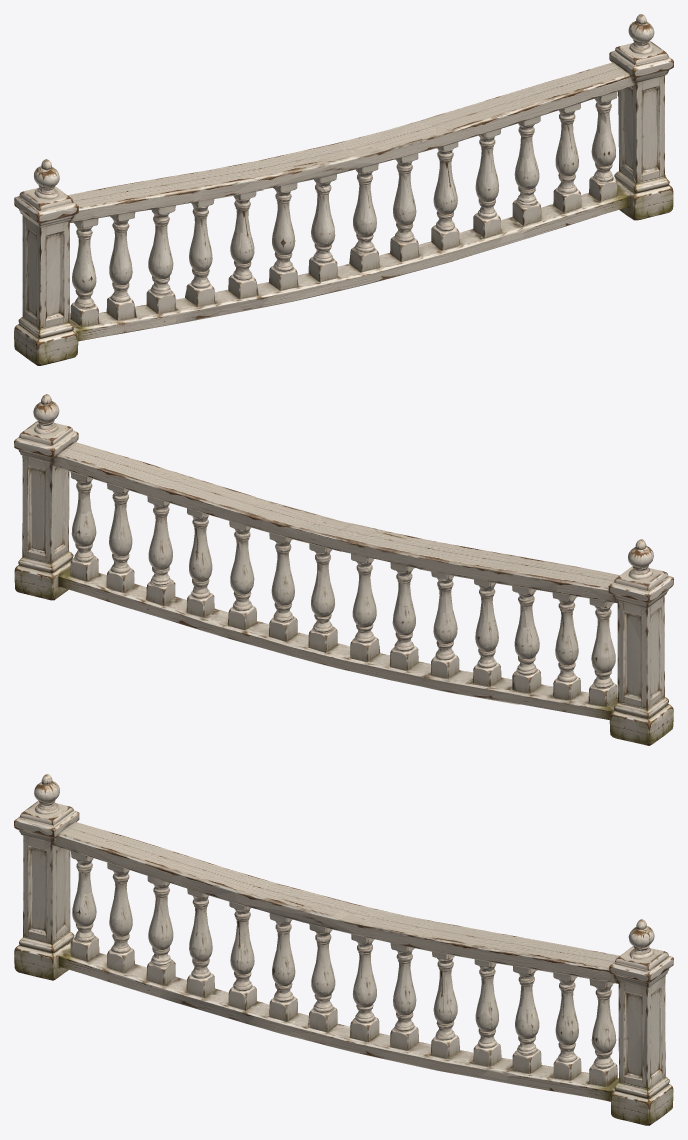
Rendered from storm-balustrade.glb.
3 renders of one model, top to bottom at view 1: azimuth 30°, elevation 25°; view 2: azimuth 150°, elevation 25°; view 3: azimuth 330°, elevation 25°, orthographic.
Parts seen in each view (by area): view 1: storm-balustrade_LOD0; view 2: storm-balustrade_LOD0; view 3: storm-balustrade_LOD0.
Part boxes in pixels (bbox=[...]): storm-balustrade_LOD0: bbox=[14, 14, 673, 365]; storm-balustrade_LOD0: bbox=[14, 394, 673, 745]; storm-balustrade_LOD0: bbox=[14, 774, 673, 1125].
Bounding box in the file's own units: 1.9 × 0.5623 × 0.1306.
1 material, 1 textured.
